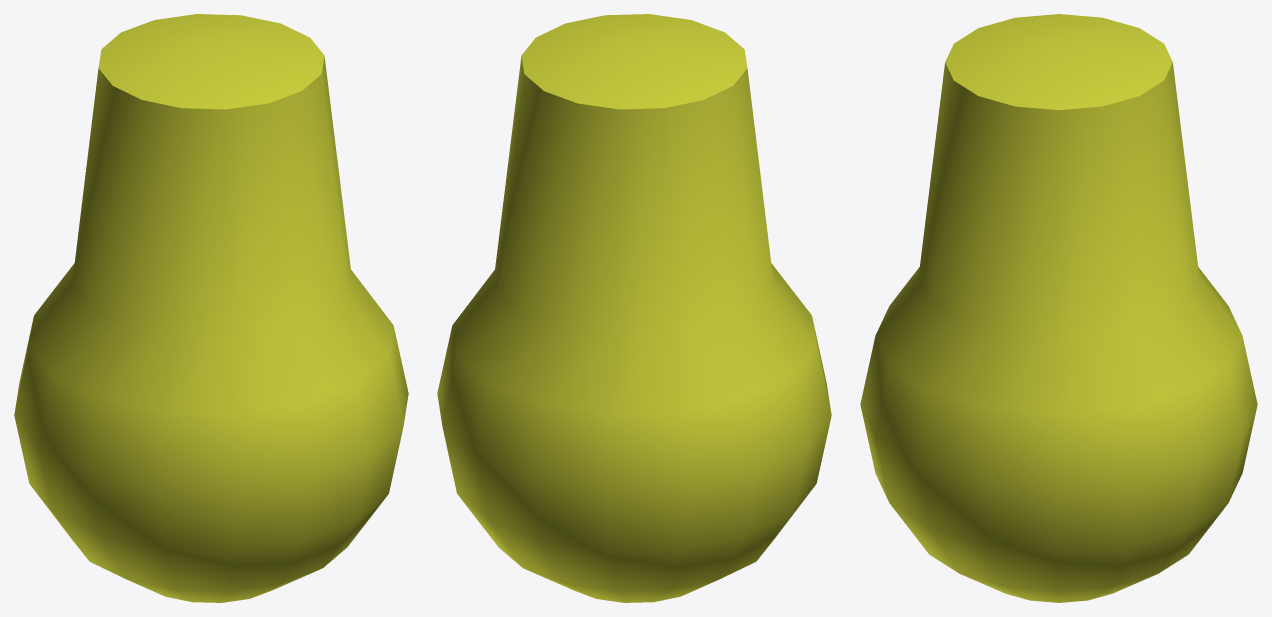
File: Light.fbx
3 views of the same model, side by side, from view 1: azimuth 30°, elevation 25°; view 2: azimuth 150°, elevation 25°; view 3: azimuth 270°, elevation 25° (orthographic).
Visible parts, largest first — view 1: Sphere; view 2: Sphere; view 3: Sphere.
Part boxes in pixels (x1,y1,x2,y2): Sphere: (14,14,408,602); Sphere: (437,14,831,602); Sphere: (860,14,1257,602).
Size of the model in its own units: 31.11 by 46.9 by 31.11.
